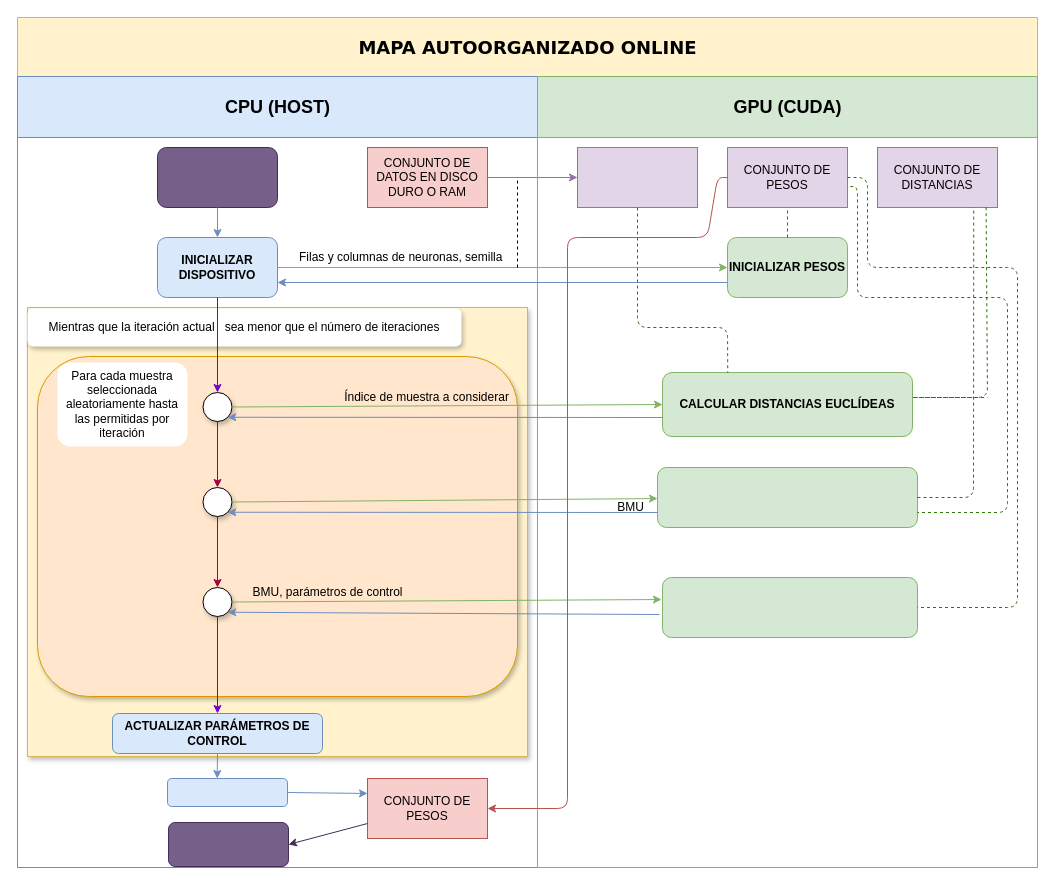
Some shapes in this 1055 by 885 pixel diagram are drawn without their labels. The centre of each missing label's shape, as x and y in pixels:
"ACTUALIZAR BMU Y SU VECINDARIO" belongs at pixel 790 607.
"CONJUNTO DE DATOS EN DRAM" belongs at pixel 637 177.
"DEVOLVER PESOS" belongs at pixel 227 792.
"ENCONTRAR MEJOR NUERONA (BMU)" belongs at pixel 787 497.
"FIN" belongs at pixel 228 844.
"INICIO" belongs at pixel 217 177.
